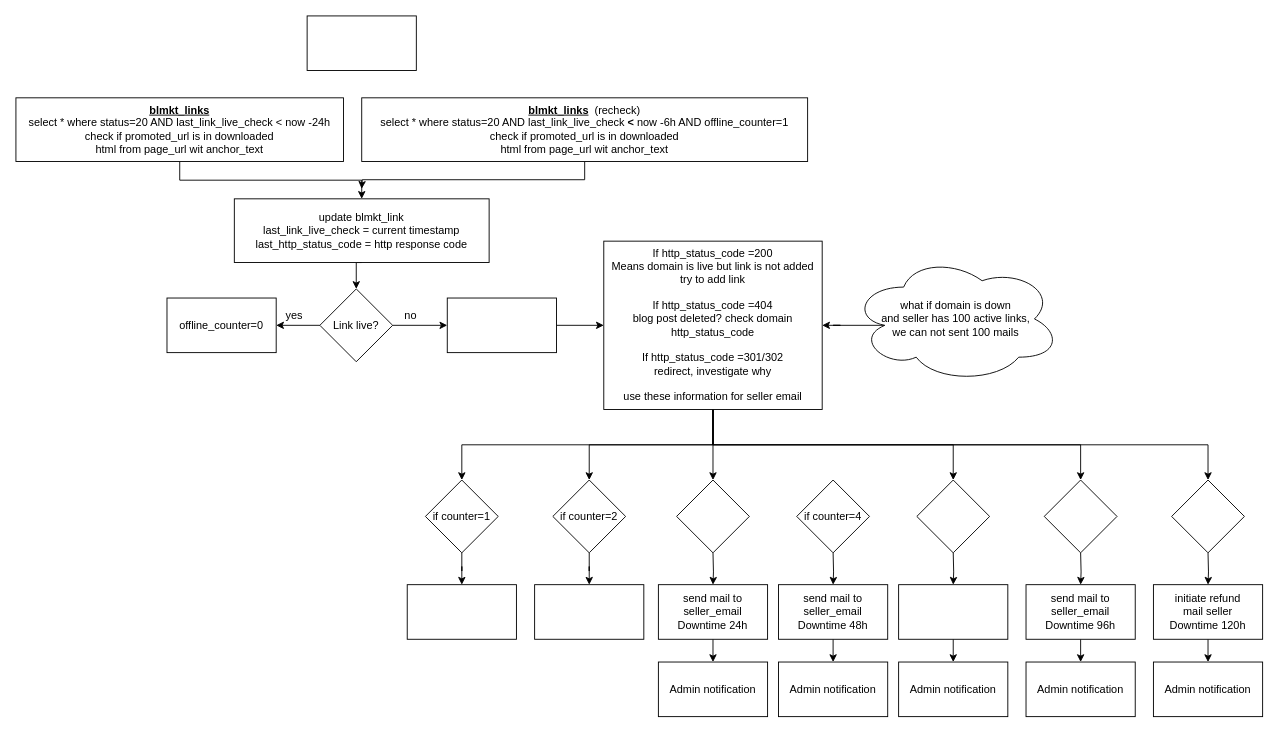
The diagram is 1279 pixels wide and 733 high, and some of its shapes have lost their labels. Each missing label, with the centre of its shape:
"if counter=3" belongs at pixel 712 516.
"if counter=5" belongs at pixel 953 516.
"if counter=6" belongs at pixel 1080 516.
"if counter=7" belongs at pixel 1207 516.
"Link check script runs every 3h via Cron" belongs at pixel 361 43.
"offline_counter +1" belongs at pixel 501 325.
"recheck in 6h" belongs at pixel 461 611.
"send mail to seller_email Downtime 72h" belongs at pixel 953 611.
"send mail to seller_email Downtime min. 6h" belongs at pixel 589 611.
